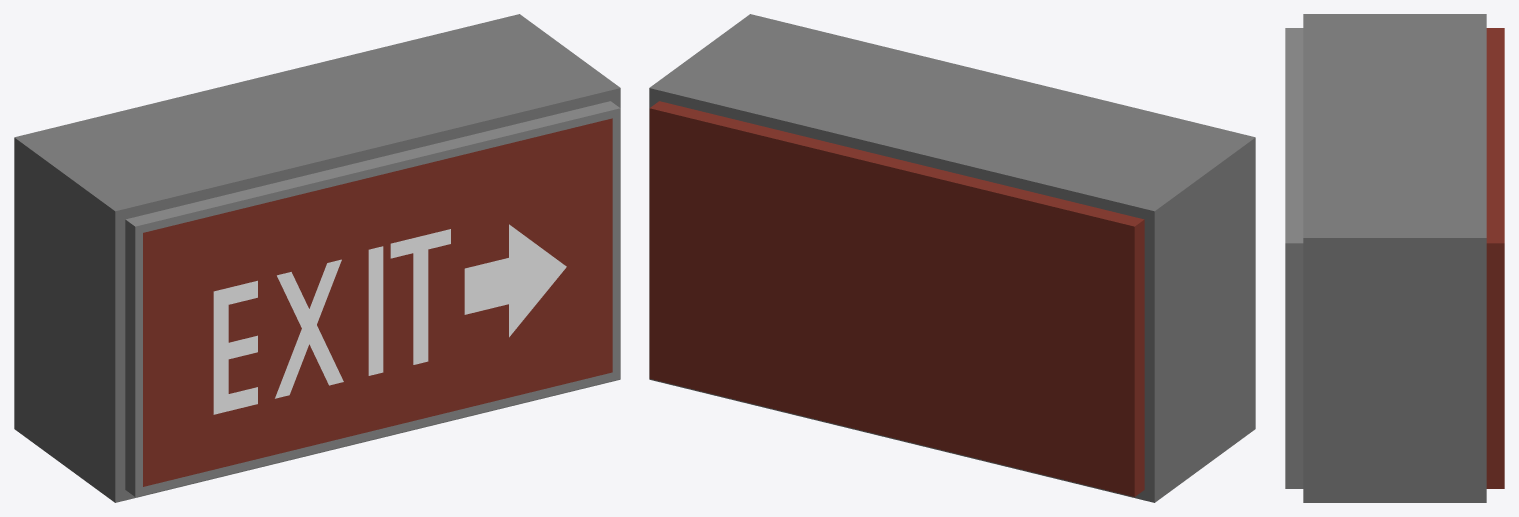
File: exit_sign.glb
The picture shows the model from 3 angles, left to right: view 1: azimuth 30°, elevation 25°; view 2: azimuth 150°, elevation 25°; view 3: azimuth 270°, elevation 25°; orthographic projection. The views are drawn at different scales.
Parts seen in each view (by area): view 1: Cube.006; view 2: Cube.006; view 3: Cube.006.
Part boxes in pixels (x1,y1,x2,y2): Cube.006: (14, 14, 620, 502); Cube.006: (649, 14, 1255, 502); Cube.006: (1285, 14, 1504, 502).
Size of the model in its own units: 0.4723 by 0.2604 by 0.1963.
